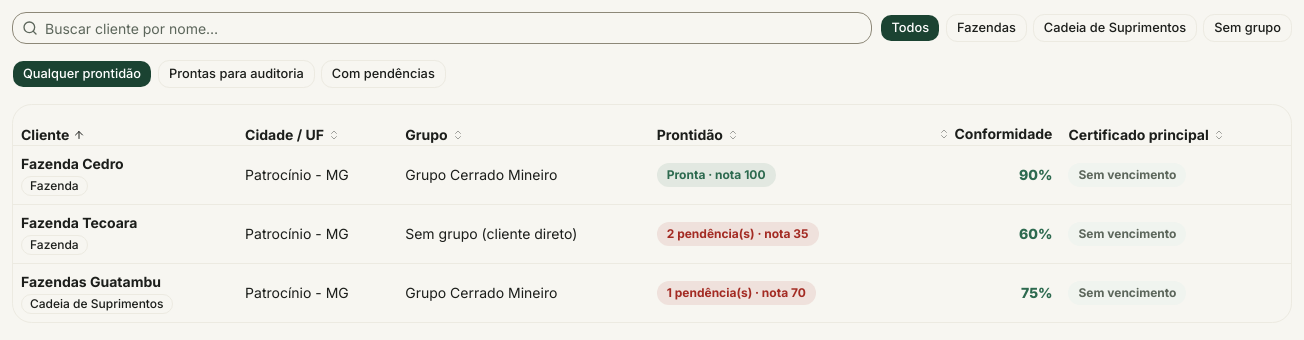
Test: Filtro de prontidão › mostra só as prontas para auditoria
Click the button "Prontas para auditoria": (236, 74) [158,60,315,88]
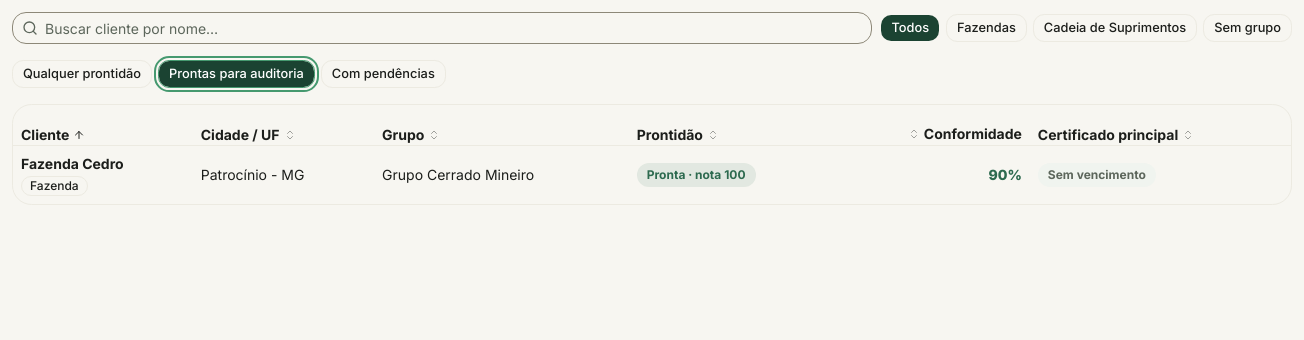
Expected: the link "Fazenda Cedro" is shown, [21,154,124,172]
Expected: the link "Fazenda Tecoara" is gone
